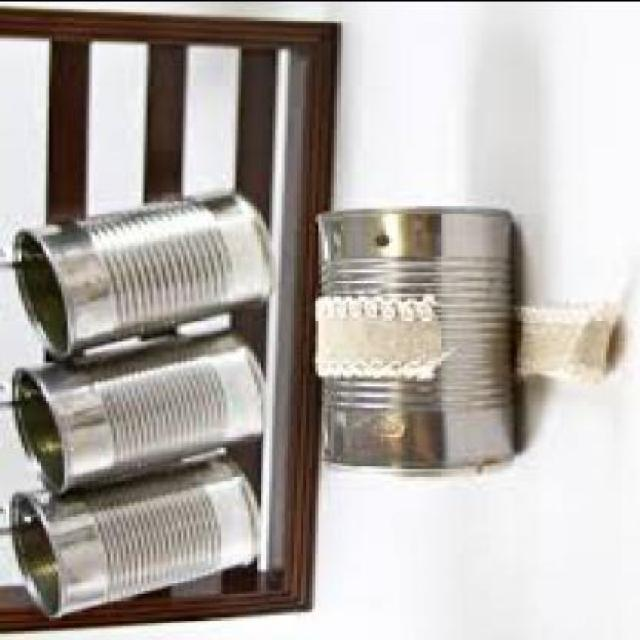METAL: (312, 205, 520, 468), (12, 187, 270, 356), (9, 449, 257, 616), (12, 326, 263, 489)
